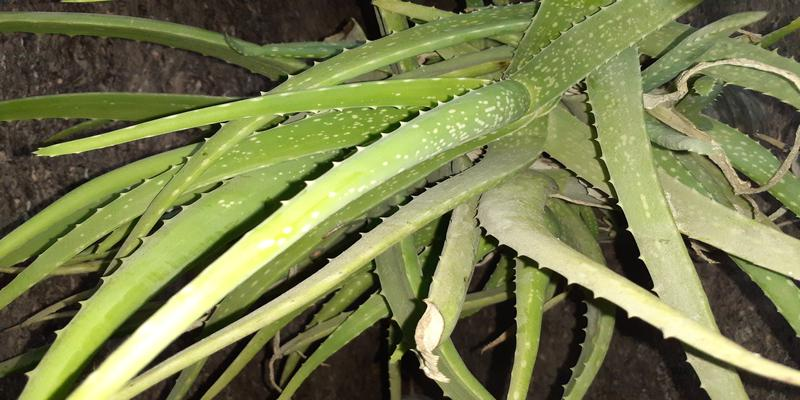Aloevera: (178, 15, 783, 377)
